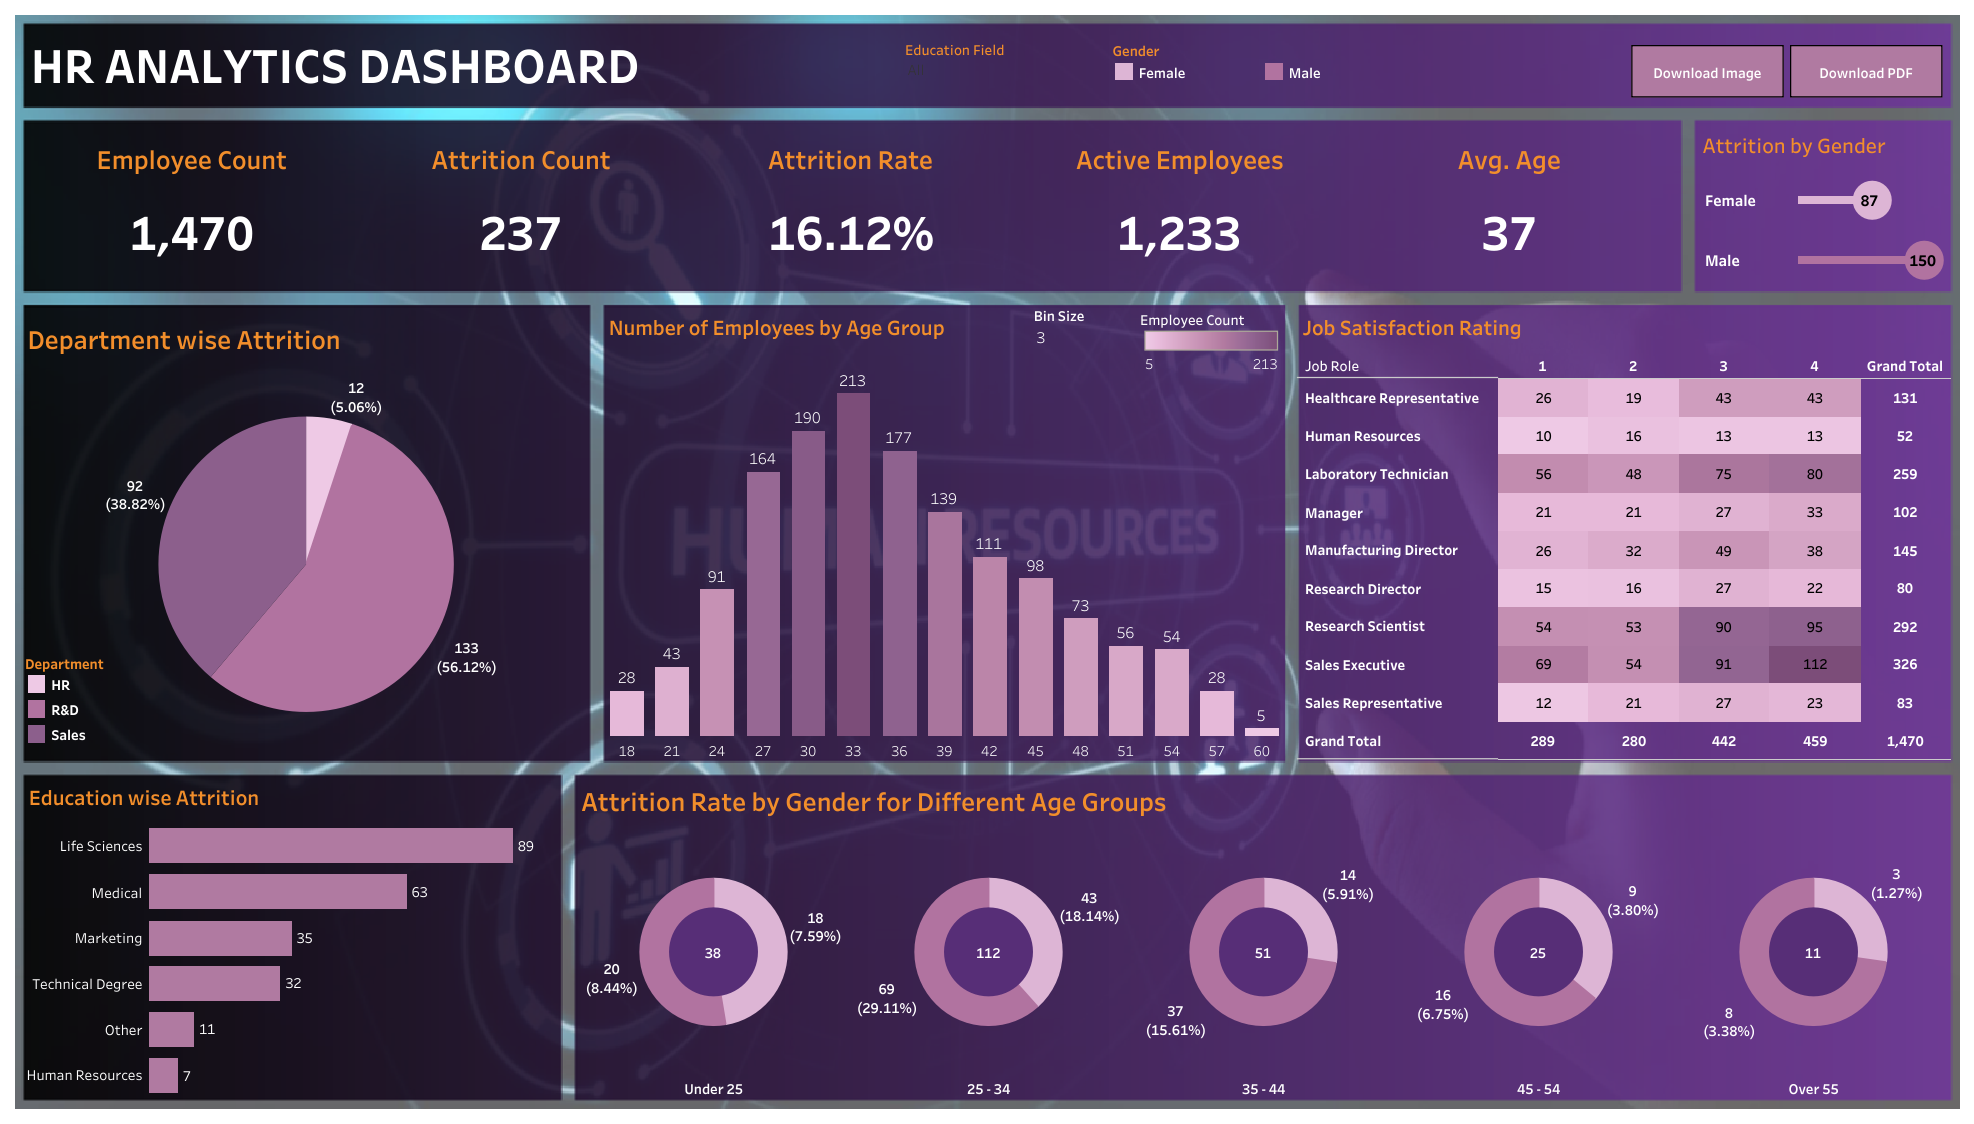

This screenshot's page, from the dashboard's own definition file:
{"tool":"tableau","page":{"name":"HR ANALYTICS DASHBOARD","canvas":[1580,900],"ordinal":0},"visuals":[{"type":"image","param":"Image/HR background.pptx.png","box":[8,8,1564,884]},{"type":"text","box":[22,18,754,64]},{"type":"filter","title":"KPI","param":"[federated.0ykjdna1xkvmdp1h8o9550w0lgkz].[none:Education Field:nk]","box":[724,31,160,47]},{"type":"legend","title":"Attrition Rate by Gender for Different Age Groups","param":"[federated.0ykjdna1xkvmdp1h8o9550w0lgkz].[none:Gender:nk]","box":[889,31,269,45]},{"type":"dashboard-object","box":[1305,36,122,42]},{"type":"dashboard-object","box":[1432,36,122,42]},{"type":"worksheet","title":"Attrition by Gender","mark":"Automatic","rows":["Gender"],"cols":["Calculation_2740721861747675136","Calculation_2740721861747675136"],"box":[1358,98,202,134]},{"type":"worksheet","title":"KPI","mark":"Automatic","box":[22,101,1317,127]},{"type":"worksheet","title":"Number of Employees by Age Group","mark":"Automatic","rows":["Employee Count"],"cols":["Age (bin)"],"box":[483,244,545,365]},{"type":"parameter","param":"[Parameters].[Age Parameter]","box":[827,244,86,75]},{"type":"legend","title":"Number of Employees by Age Group","param":"[federated.0ykjdna1xkvmdp1h8o9550w0lgkz].[sum:Employee Count:qk]","box":[912,244,115,57]},{"type":"worksheet","title":"Job Satisfaction Rating","mark":"Square","rows":["Job Role"],"cols":["Job Satisfaction"],"box":[1038,244,523,364]},{"type":"worksheet","title":"Department wise Attrition","mark":"Pie","box":[18,251,453,357]},{"type":"legend","title":"Department wise Attrition","param":"[federated.0ykjdna1xkvmdp1h8o9550w0lgkz].[none:Department:nk]","box":[19,521,116,85]},{"type":"blank","box":[1422,619,10,260]},{"type":"worksheet","title":"Education wise Attrition","mark":"Automatic","rows":["Education Field"],"cols":["Calculation_2740721861747675136"],"box":[19,620,430,258]},{"type":"worksheet","title":"Attrition Rate by Gender for Different Age Groups","mark":"Pie","rows":["Calculation_2740721861792456708","Calculation_2740721861792456708"],"cols":["CF_age band"],"box":[461,621,1100,258]}]}

Visuals, with their boxes in screenshot pixels (x1, y1, x2, y2), scaled from the page's 1580x900 canvas onto the 1974x1124 screenshot:
image: detection(10, 10, 1964, 1114)
text: detection(27, 22, 970, 102)
"KPI" filter: detection(905, 39, 1104, 97)
"Attrition Rate by Gender for Different Age Groups" legend: detection(1111, 39, 1447, 95)
dashboard-object: detection(1630, 45, 1783, 97)
dashboard-object: detection(1789, 45, 1942, 97)
"Attrition by Gender" worksheet: detection(1697, 122, 1949, 290)
"KPI" worksheet: detection(27, 126, 1673, 285)
"Number of Employees by Age Group" worksheet: detection(603, 305, 1284, 761)
parameter: detection(1033, 305, 1141, 398)
"Number of Employees by Age Group" legend: detection(1139, 305, 1283, 376)
"Job Satisfaction Rating" worksheet (Square marks): detection(1297, 305, 1950, 759)
"Department wise Attrition" worksheet (Pie marks): detection(22, 313, 588, 759)
"Department wise Attrition" legend: detection(24, 651, 169, 757)
blank: detection(1777, 773, 1789, 1098)
"Education wise Attrition" worksheet: detection(24, 774, 561, 1097)
"Attrition Rate by Gender for Different Age Groups" worksheet (Pie marks): detection(576, 776, 1950, 1098)
